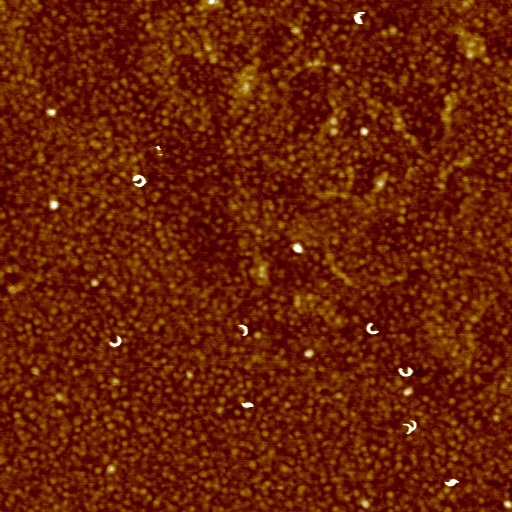-1: (237, 399, 256, 411), (292, 241, 305, 255), (445, 477, 458, 488), (43, 106, 56, 117), (50, 199, 60, 210)
2/4: (395, 364, 415, 379), (106, 333, 124, 349), (367, 319, 381, 338), (236, 322, 249, 340), (353, 9, 366, 26), (399, 421, 411, 438), (411, 417, 420, 435)
3/4: (132, 171, 148, 189)
